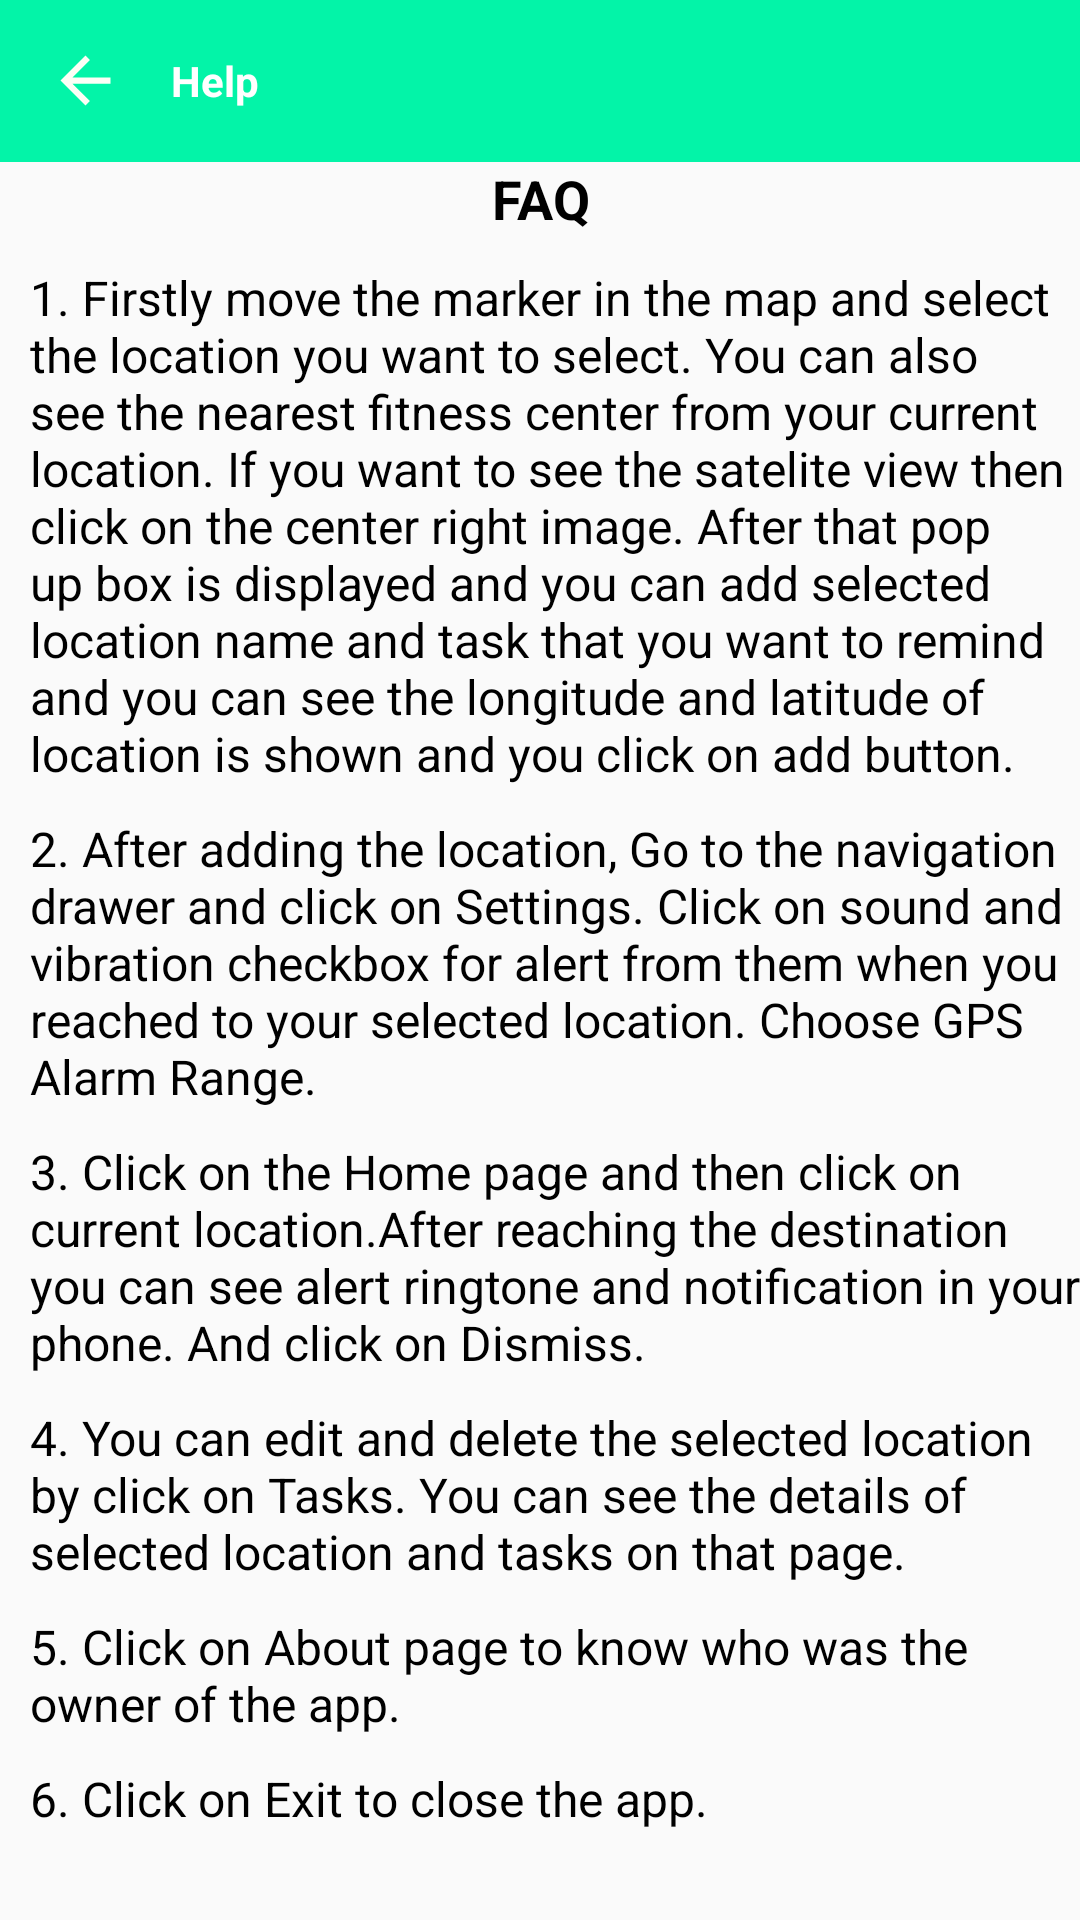

Named icons in this screenshot (1080px x 1920px) and their centers, (x,y):
back: (85,80)
